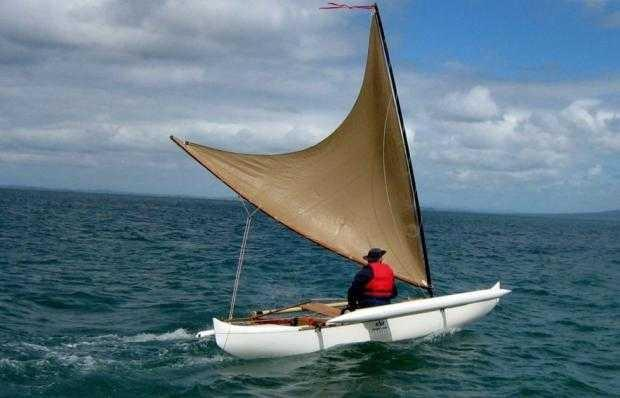kayak: (168, 0, 512, 360), (211, 280, 513, 362)
